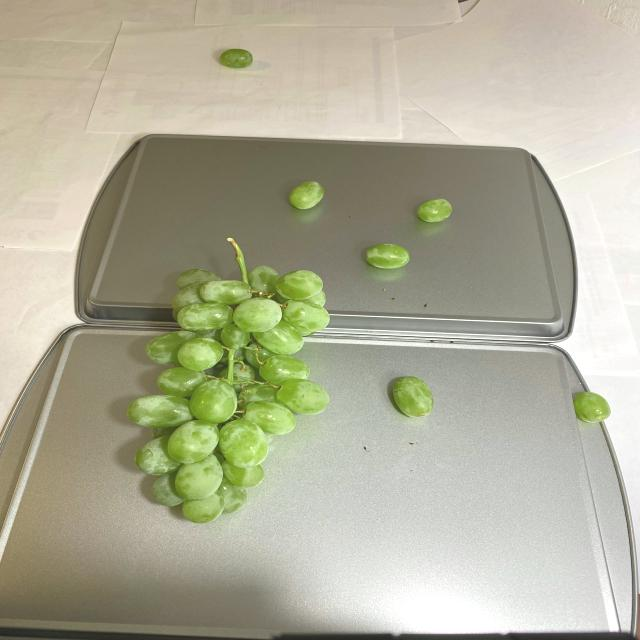grapes: (124, 234, 420, 526), (414, 192, 458, 226), (287, 182, 328, 214), (573, 390, 611, 424), (213, 47, 253, 69)
